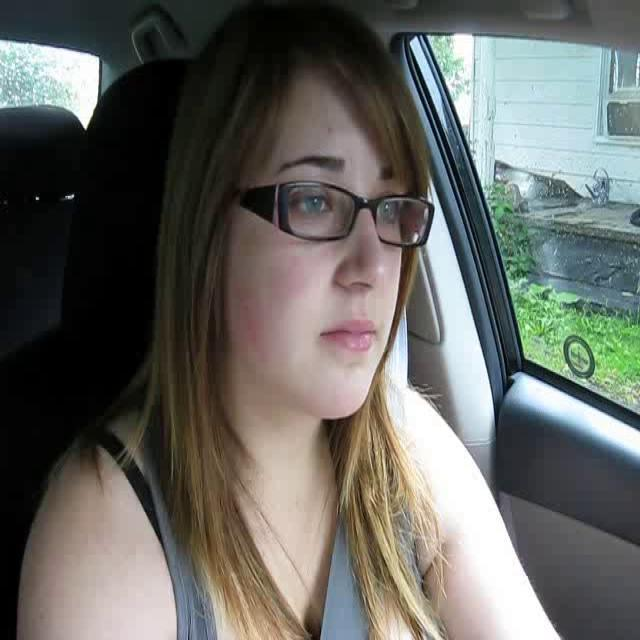close: (319, 316, 385, 356)
